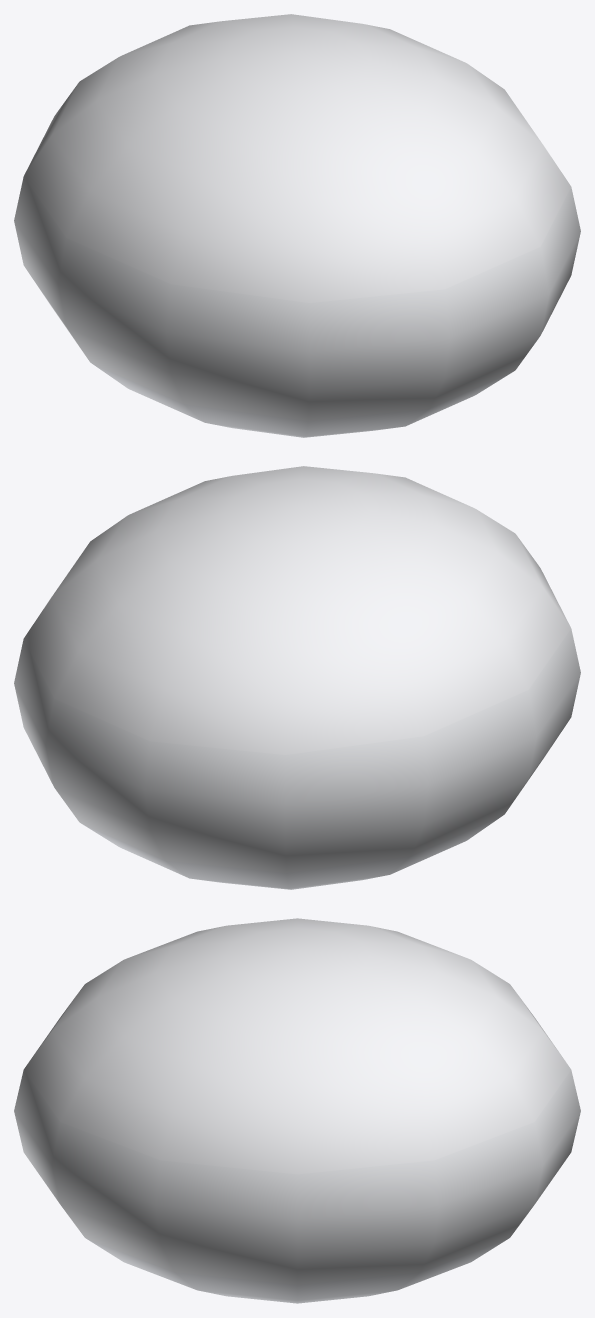
File: bush-52_col.fbx
The picture shows the model from 3 angles, top to bottom: view 1: azimuth 30°, elevation 25°; view 2: azimuth 150°, elevation 25°; view 3: azimuth 270°, elevation 25°; orthographic projection. The views are drawn at different scales.
Visible parts, largest first — view 1: bush-52.col; view 2: bush-52.col; view 3: bush-52.col.
Boxes of the visible parts, x1,y1,x2,y2 form: bush-52.col: (14, 14, 580, 437); bush-52.col: (14, 466, 580, 889); bush-52.col: (14, 918, 580, 1303).
Size of the model in its own units: 0.1635 by 0.1123 by 0.1805.
Materials: 1 (1 with a texture image).
